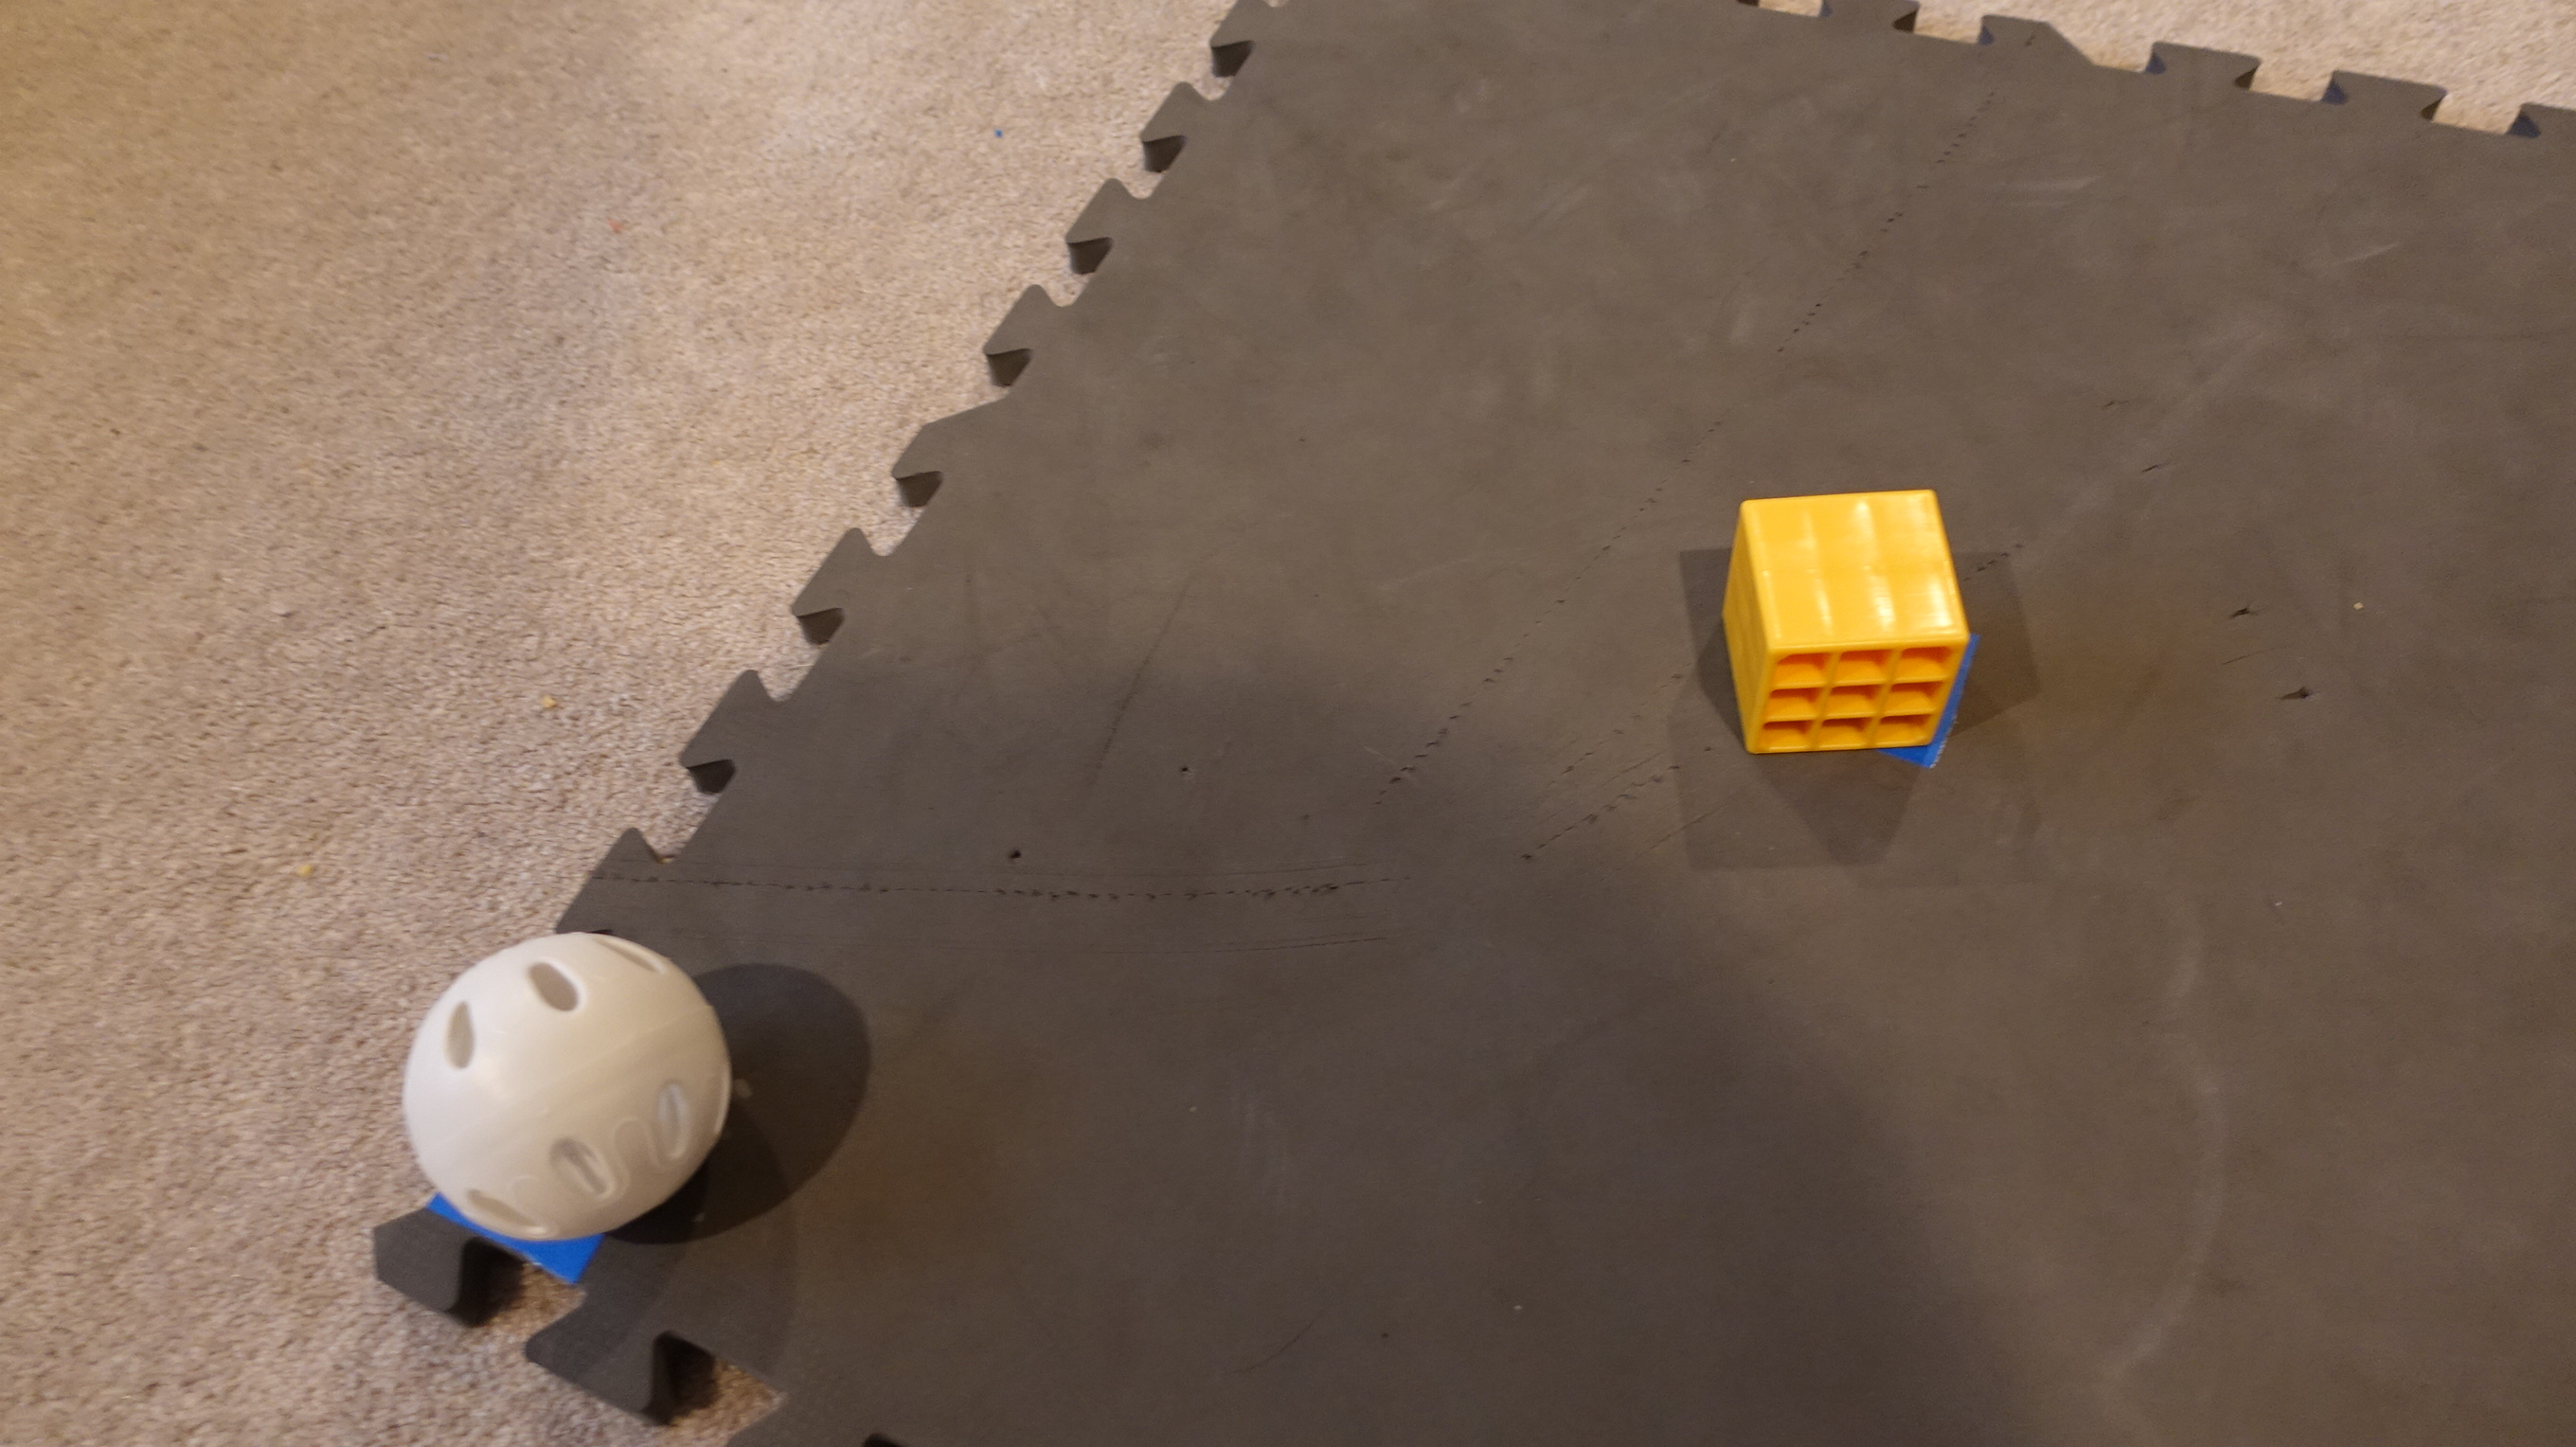gold: (1714, 478, 1969, 764)
silver: (395, 922, 738, 1254)
